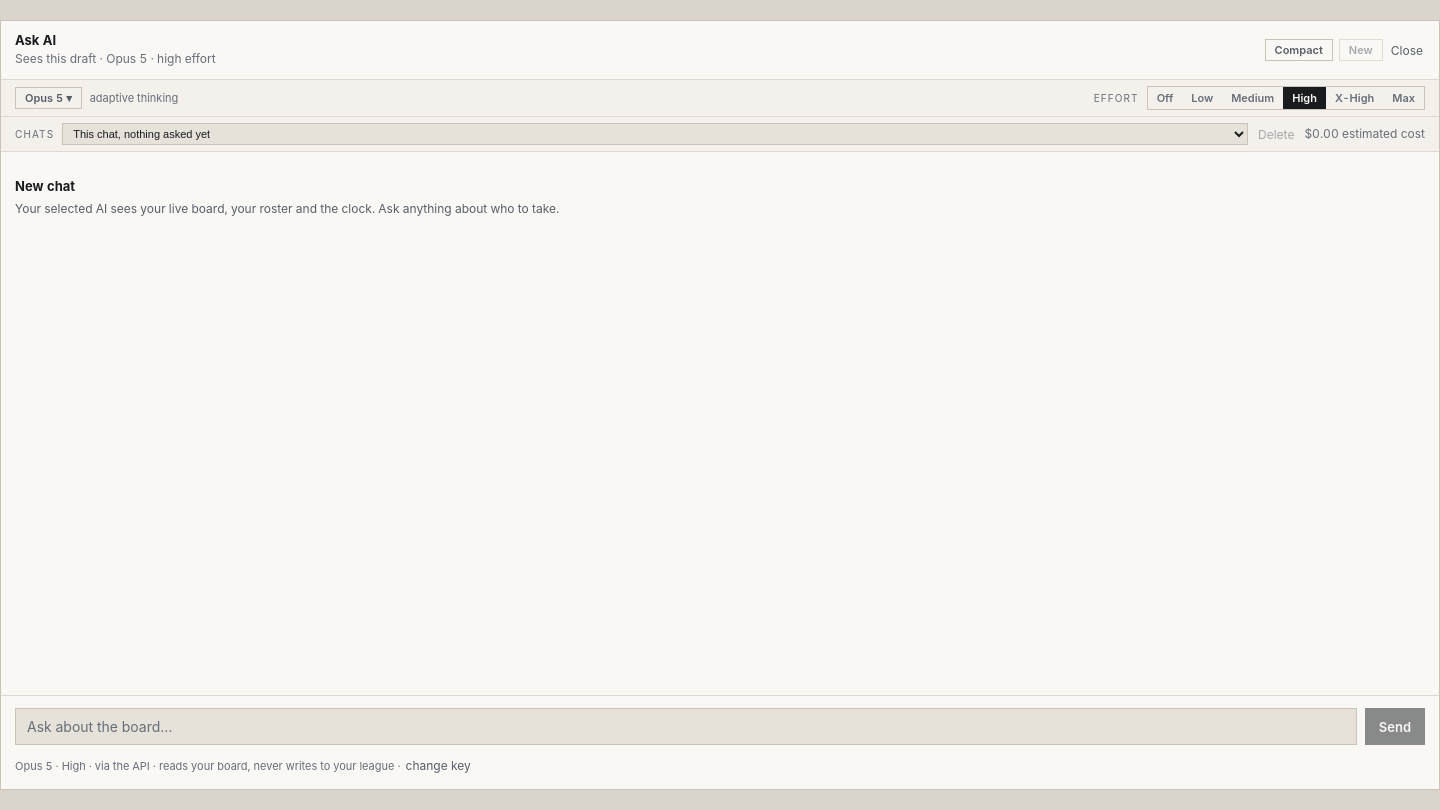
Test: an answer while it is being written › ignores an answer being written for the other screen
Type "Who?" into the field named "Ask AI" at (686, 726), box [15,708,1357,745]
Then press Enter
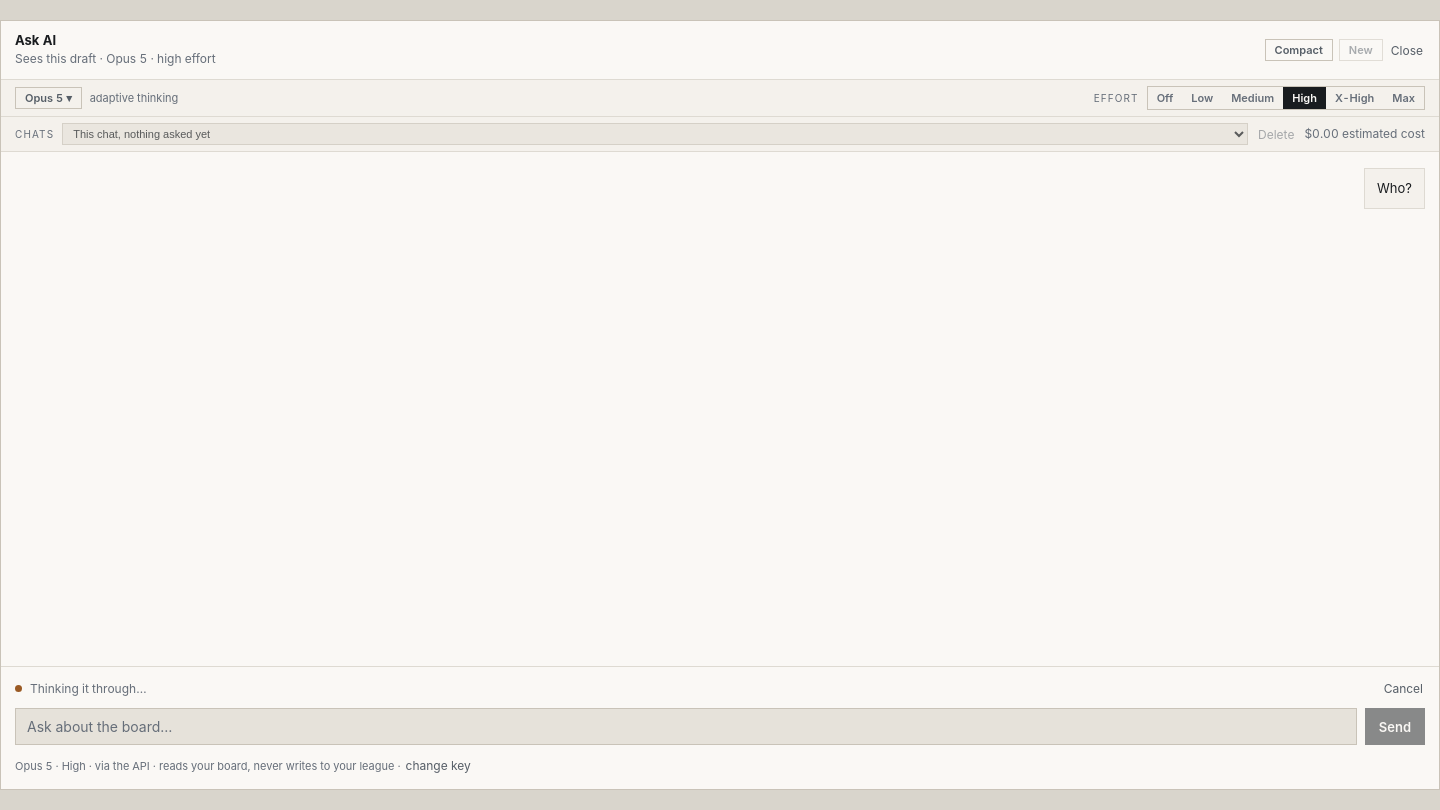
Check: the text "Thinking it through… Cancel" is shown, box [15,679,1425,698]
